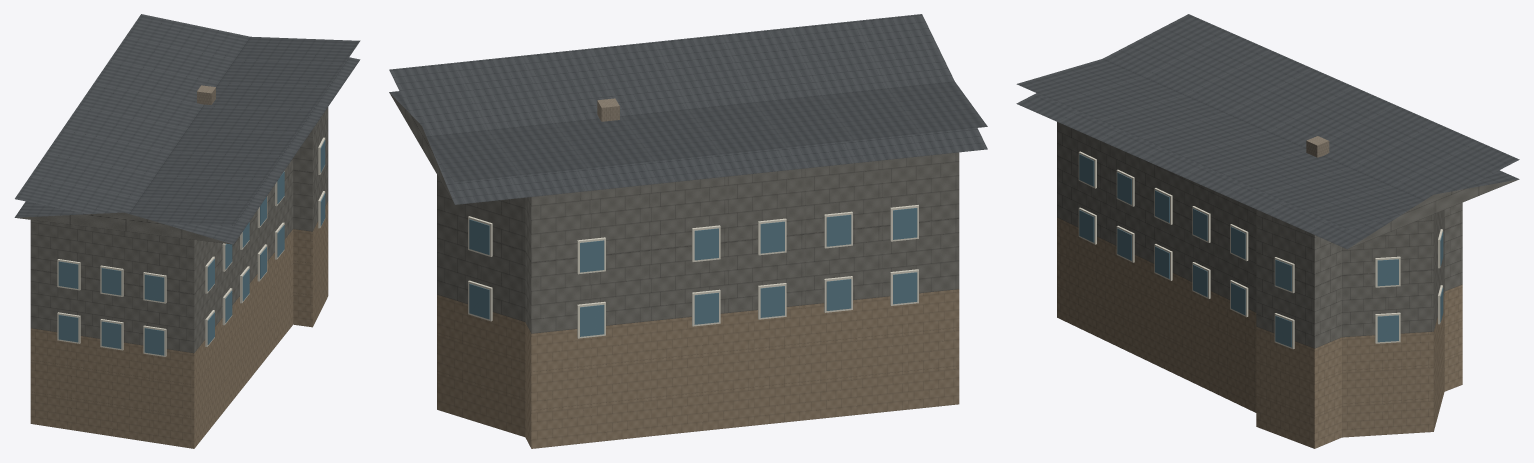
The model's file is core_0042.gltf.
3 views of the same model, side by side, from view 1: azimuth 30°, elevation 25°; view 2: azimuth 150°, elevation 25°; view 3: azimuth 270°, elevation 25° (orthographic). The views are drawn at different scales.
Visible parts, largest first — view 1: core_0042; view 2: core_0042; view 3: core_0042.
Boxes of the visible parts, <box> form: core_0042: <box>14,14,360,448</box>; core_0042: <box>389,14,987,448</box>; core_0042: <box>1016,14,1519,448</box>.
Bounding box in the file's own units: 23.54 × 12.55 × 23.23.
6 materials, 6 textured.
